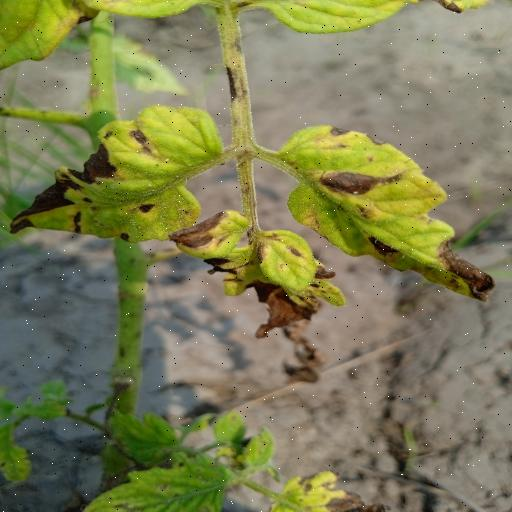Tomato_Brown_Spots: (273, 122, 501, 303), (8, 102, 230, 242)
